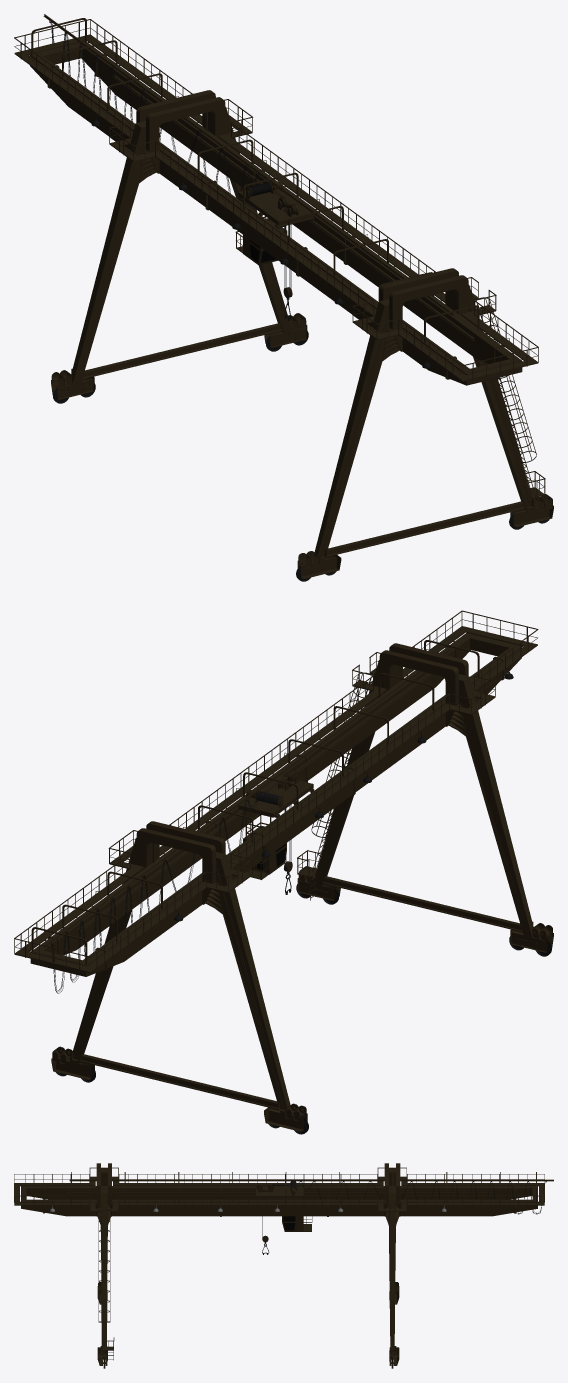
File: Kozlovoy_kran.FBX
3 views of the same model, one above another, from view 1: azimuth 30°, elevation 25°; view 2: azimuth 150°, elevation 25°; view 3: azimuth 270°, elevation 25° (orthographic). The views are drawn at different scales.
Parts seen in each view (by area): view 1: Rectangle03, Box02, Box04, Box220, Box218, Box20, Shape01, Box05, Box16, Box216, Box215, Line12 (+12 smaller); view 2: Rectangle03, Box02, Box04, Box218, Box220, Shape01, Box219, Box06, Box15, Box20, Box215, Box216 (+11 smaller); view 3: Box02, Box04, Rectangle03, Shape01, Box07, Box194, Box219, Box20, Shape02, Object18, Box64, Line12 (+1 smaller).
Boxes of the visible parts, bbox=[...] form: Rectangle03: bbox=[14, 34, 538, 381]; Box02: bbox=[78, 41, 522, 373]; Box04: bbox=[30, 53, 474, 385]; Box220: bbox=[71, 121, 145, 384]; Box218: bbox=[314, 299, 389, 561]; Box20: bbox=[449, 285, 535, 511]; Shape01: bbox=[14, 19, 538, 366]; Box05: bbox=[146, 97, 225, 173]; Box16: bbox=[389, 275, 468, 351]; Box216: bbox=[82, 323, 282, 379]; Box215: bbox=[326, 501, 525, 557]; Line12: bbox=[50, 21, 268, 200]; Rectangle03: bbox=[14, 626, 537, 972]; Box02: bbox=[30, 633, 474, 965]; Box04: bbox=[78, 644, 521, 976]; Box218: bbox=[459, 674, 533, 937]; Box220: bbox=[216, 852, 290, 1114]; Shape01: bbox=[14, 610, 538, 957]; Box219: bbox=[69, 838, 156, 1064]; Box06: bbox=[136, 828, 215, 904]; Box15: bbox=[379, 650, 458, 726]; Box20: bbox=[312, 660, 399, 886]; Box215: bbox=[322, 876, 522, 932]; Box216: bbox=[79, 1054, 278, 1109]; Box02: bbox=[21, 1199, 537, 1216]; Box04: bbox=[21, 1186, 537, 1199]; Rectangle03: bbox=[14, 1176, 544, 1211]; Shape01: bbox=[14, 1167, 544, 1202]; Box07: bbox=[69, 1179, 553, 1181]; Box194: bbox=[66, 1190, 492, 1192]; Box219: bbox=[388, 1188, 395, 1355]; Box20: bbox=[100, 1188, 107, 1355]; Shape02: bbox=[14, 1179, 544, 1206]; Object18: bbox=[98, 1210, 110, 1323]; Box64: bbox=[256, 1186, 303, 1198]; Line12: bbox=[296, 1181, 545, 1214].
Bounding box in the file's own units: 16318 × 16589 × 50673.
